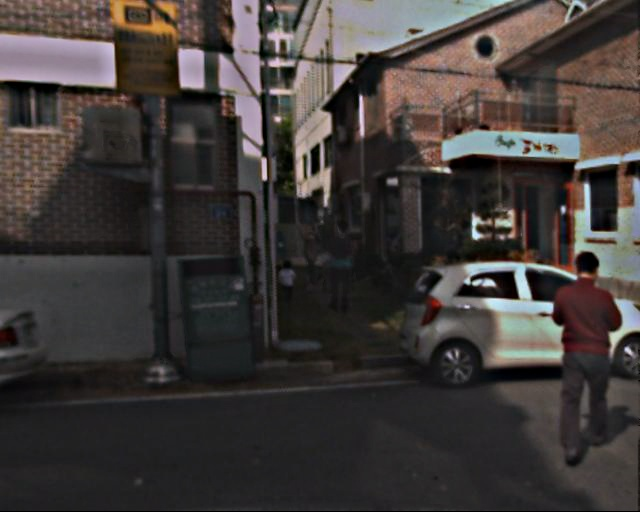person: (538, 255, 626, 456), (321, 219, 361, 314), (296, 224, 323, 290), (277, 258, 296, 304)
